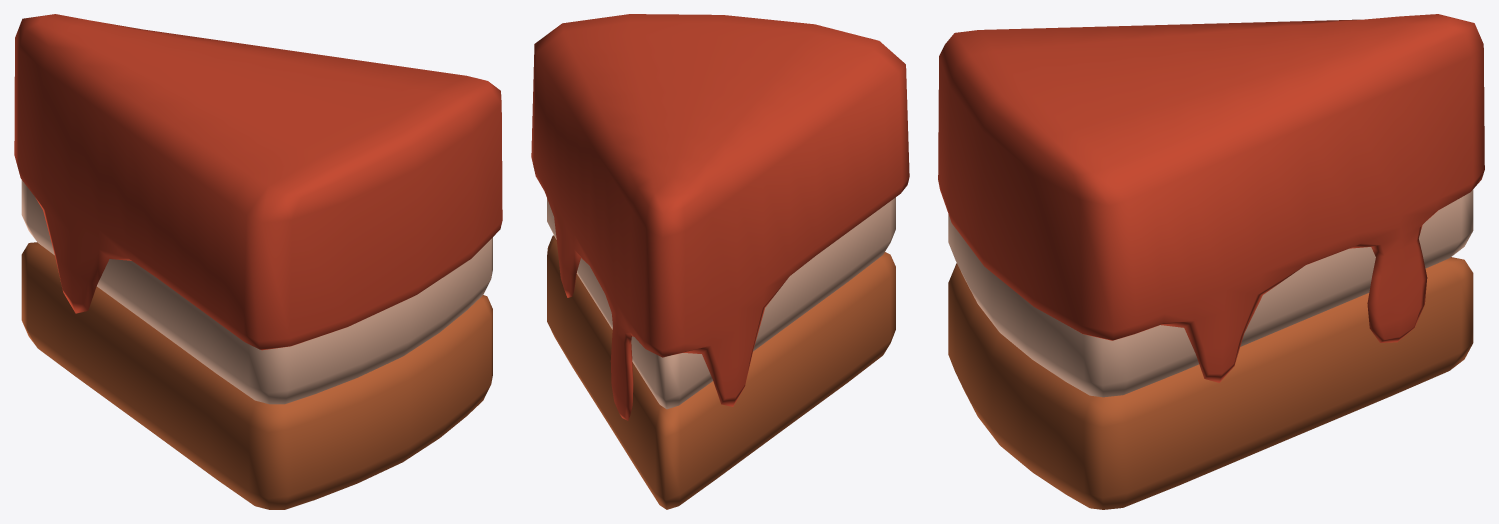
Rendered from SM_cake_slice.glb.
3 views of the same model, side by side, from view 1: azimuth 30°, elevation 25°; view 2: azimuth 150°, elevation 25°; view 3: azimuth 270°, elevation 25° (orthographic). The views are drawn at different scales.
Visible parts, largest first — view 1: SM_cake_slice; view 2: SM_cake_slice; view 3: SM_cake_slice.
Boxes of the visible parts, x1,y1,x2,y2 form: SM_cake_slice: [14, 14, 502, 509]; SM_cake_slice: [531, 14, 909, 509]; SM_cake_slice: [938, 14, 1484, 509].
Bounding box in the file's own units: 0.1168 × 0.1166 × 0.1604.
1 material, 1 textured.
